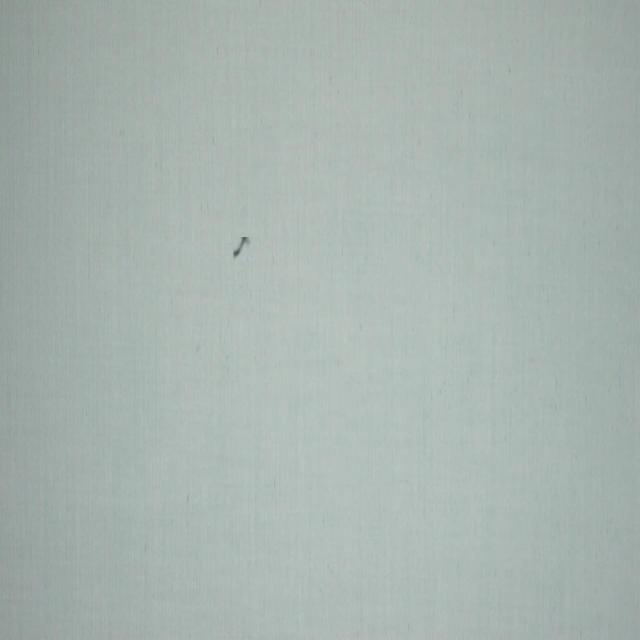dirty: (234, 235, 247, 262)
